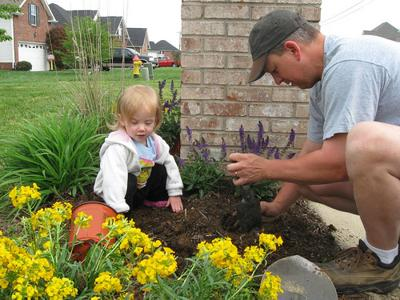person: (223, 9, 400, 294)
